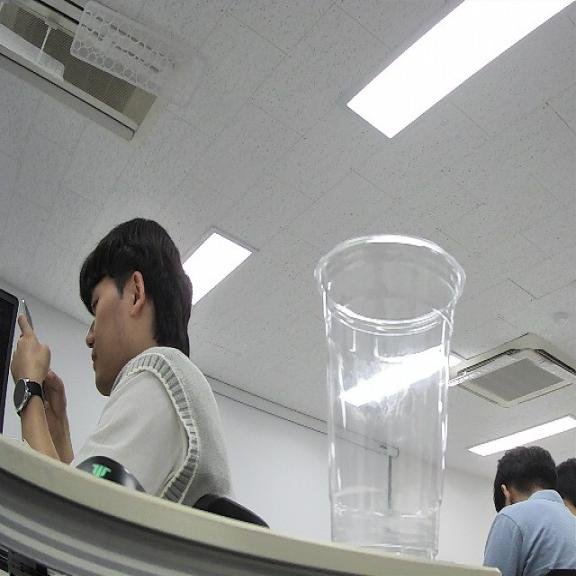Plastik: (315, 236, 465, 557)
